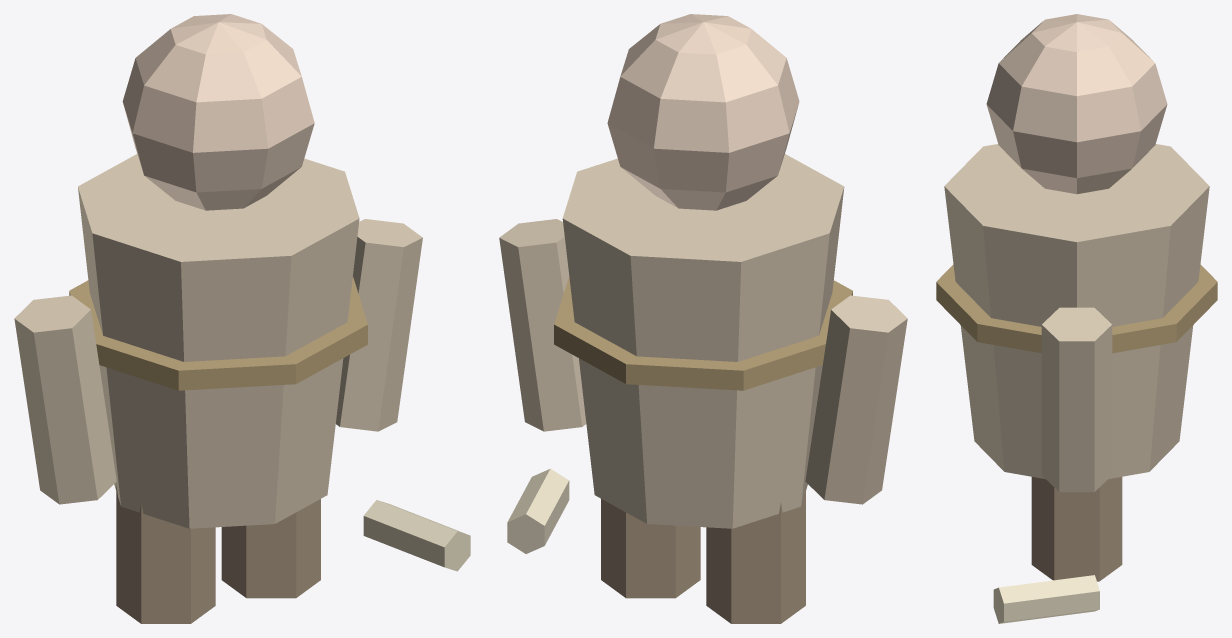
Rendered from geologist.glb.
3 renders of one model, left to right at view 1: azimuth 30°, elevation 25°; view 2: azimuth 150°, elevation 25°; view 3: azimuth 270°, elevation 25°, orthographic. The views are drawn at different scales.
Parts seen in each view (by area): view 1: geologist; view 2: geologist; view 3: geologist.
Boxes of the visible parts, bbox=[...] form: geologist: bbox=[14, 14, 470, 623]; geologist: bbox=[499, 14, 907, 623]; geologist: bbox=[936, 14, 1217, 623].
Size of the model in its own units: 0.4247 by 0.57 by 0.28.
